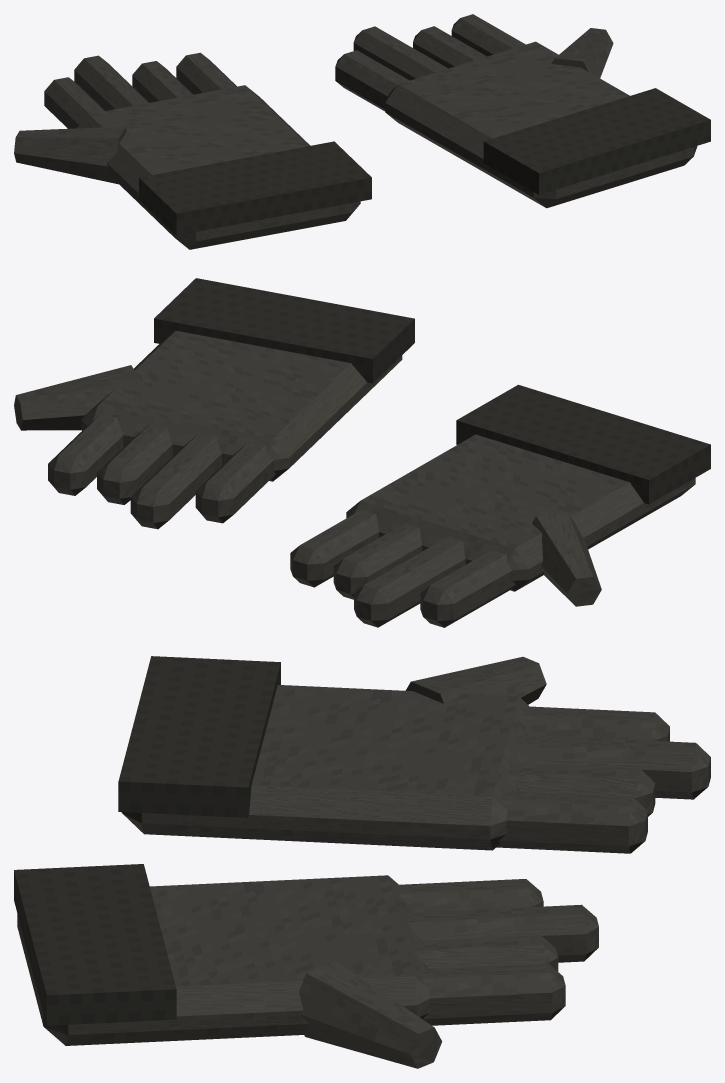
The model's file is gloves_leather.glb.
3 views of the same model, one above another, from view 1: azimuth 30°, elevation 25°; view 2: azimuth 150°, elevation 25°; view 3: azimuth 270°, elevation 25° (orthographic). The views are drawn at different scales.
Visible parts, largest first — view 1: block_palm and cuff (×2), block_rib cuff (×2), block_thumb (×2), block_finger 1 (×2), block_finger 0 (×2), block_finger 3 (×2), block_finger 2 (×2); view 2: block_palm and cuff (×2), block_rib cuff (×2), block_finger 1 (×2), block_thumb (×2), block_finger 0 (×2), block_finger 3 (×2), block_finger 2 (×2); view 3: block_palm and cuff (×2), block_rib cuff (×2), block_finger 3 (×2), block_finger 1 (×2), block_thumb (×2), block_finger 2 (×2), block_finger 0 (×2).
Boxes of the visible parts, x1,y1,x2,y2 form: block_palm and cuff (×2): [77, 41, 697, 249]; block_rib cuff (×2): [139, 88, 710, 235]; block_thumb (×2): [14, 28, 613, 184]; block_finger 1 (×2): [74, 26, 447, 110]; block_finger 0 (×2): [44, 50, 409, 128]; block_finger 3 (×2): [176, 14, 525, 94]; block_finger 2 (×2): [132, 26, 486, 102]; block_palm and cuff (×2): [81, 330, 695, 591]; block_rib cuff (×2): [154, 278, 710, 504]; block_finger 1 (×2): [130, 433, 465, 627]; block_thumb (×2): [14, 365, 601, 606]; block_finger 0 (×2): [195, 442, 515, 627]; block_finger 3 (×2): [48, 414, 378, 587]; block_finger 2 (×2): [97, 423, 422, 599]; block_palm and cuff (×2): [17, 685, 535, 1045]; block_rib cuff (×2): [14, 656, 280, 1025]; block_finger 3 (×2): [418, 791, 647, 1025]; block_finger 1 (×2): [404, 734, 710, 962]; block_thumb (×2): [299, 656, 546, 1068]; block_finger 2 (×2): [411, 762, 655, 971]; block_finger 0 (×2): [396, 706, 669, 912].
Bounding box in the file's own units: 0.2433 × 0.0195 × 0.1868.
1 material, 1 textured.
